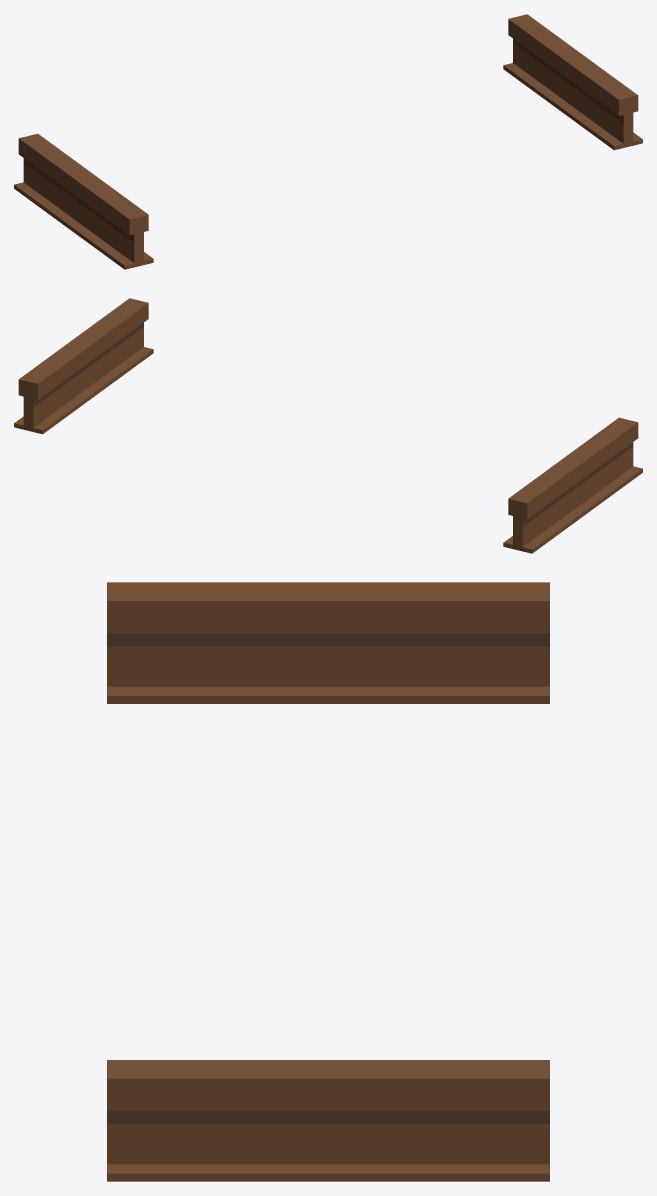
File: rusty_tramrails.obj
The picture shows the model from 3 angles, top to bottom: view 1: azimuth 30°, elevation 25°; view 2: azimuth 150°, elevation 25°; view 3: azimuth 270°, elevation 25°; orthographic projection. The views are drawn at different scales.
Visible parts, largest first — view 1: cube; view 2: cube; view 3: cube.
Boxes of the visible parts, bbox=[...] form: cube: bbox=[14, 14, 642, 269]; cube: bbox=[14, 298, 642, 553]; cube: bbox=[107, 582, 549, 1181].
Bounding box in the file's own units: 1.69 × 0.1531 × 0.625.
Materials: 1 (1 with a texture image).
